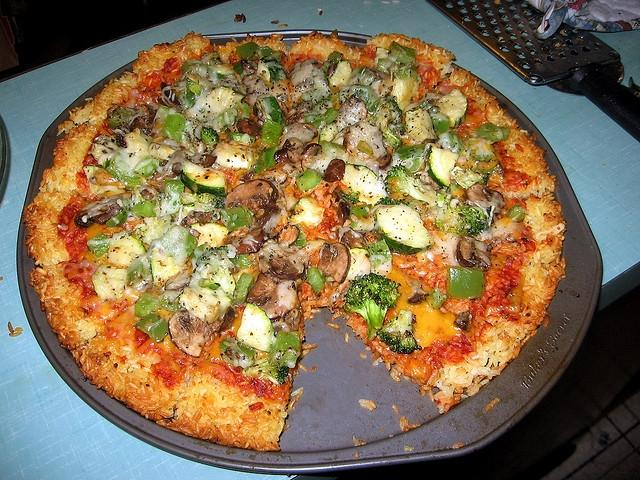bell pepper: (446, 266, 486, 300), (268, 330, 302, 368), (134, 312, 170, 342), (388, 40, 420, 68), (221, 206, 254, 232), (230, 272, 254, 306), (254, 145, 278, 176), (260, 118, 284, 148), (162, 112, 186, 142), (321, 51, 344, 76), (296, 169, 322, 191), (426, 286, 448, 310), (308, 267, 326, 296), (89, 232, 109, 257), (132, 200, 156, 220), (268, 96, 284, 124), (236, 42, 259, 60), (506, 204, 526, 223), (163, 179, 185, 194), (396, 144, 426, 154), (432, 118, 450, 134), (324, 108, 338, 125), (229, 228, 249, 238), (496, 126, 509, 140)
broccoli: (342, 272, 402, 341), (376, 310, 422, 354), (368, 98, 407, 146), (192, 246, 235, 281), (446, 204, 488, 236), (266, 331, 301, 368), (242, 360, 290, 386), (376, 58, 419, 83), (384, 165, 410, 194), (259, 98, 285, 123), (349, 204, 372, 228), (374, 196, 418, 206), (200, 126, 220, 146)
mushroom: (224, 179, 280, 228), (169, 310, 224, 358), (259, 278, 303, 320), (106, 103, 155, 135), (464, 183, 506, 216), (332, 96, 368, 132), (318, 243, 350, 283), (406, 108, 438, 145), (457, 238, 492, 270), (74, 206, 120, 228), (268, 257, 298, 282), (321, 158, 345, 183), (236, 118, 262, 136), (274, 148, 301, 164), (242, 74, 264, 93), (301, 142, 322, 156), (196, 154, 217, 168), (264, 162, 295, 171), (188, 226, 201, 240), (158, 98, 172, 107)
